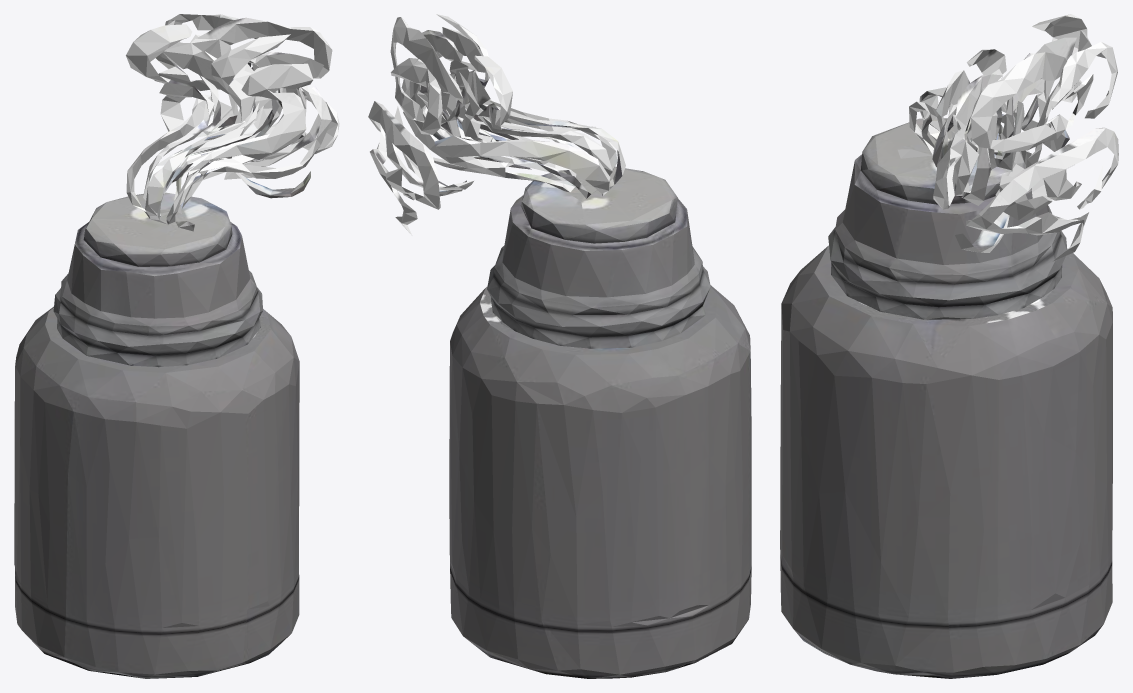
File: hot_tea.glb
The picture shows the model from 3 angles, left to right: view 1: azimuth 30°, elevation 25°; view 2: azimuth 150°, elevation 25°; view 3: azimuth 270°, elevation 25°; orthographic projection. The views are drawn at different scales.
Visible parts, largest first — view 1: tmp2cswazgw.ply; view 2: tmp2cswazgw.ply; view 3: tmp2cswazgw.ply.
Boxes of the visible parts, bbox=[...] form: tmp2cswazgw.ply: bbox=[14, 14, 339, 678]; tmp2cswazgw.ply: bbox=[368, 14, 751, 678]; tmp2cswazgw.ply: bbox=[780, 14, 1118, 678].
Bounding box in the file's own units: 1.23 × 1.99 × 0.9672.
Materials: 1 (1 with a texture image).
